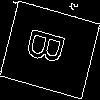B: (25, 25, 74, 70)
